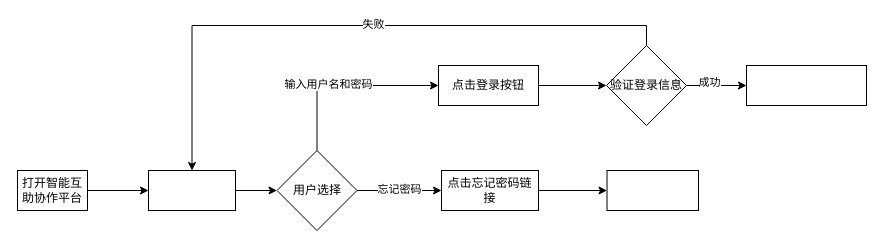
This 884x248 diagram has some shape labels left out. Here are the shapes that lost their labels. From the top down, the centre of each, then its label:
At (806,85): "跳转至我的小程序界面".
At (192,190): "用户登录界面".
At (652,190): "密码修改流程".
